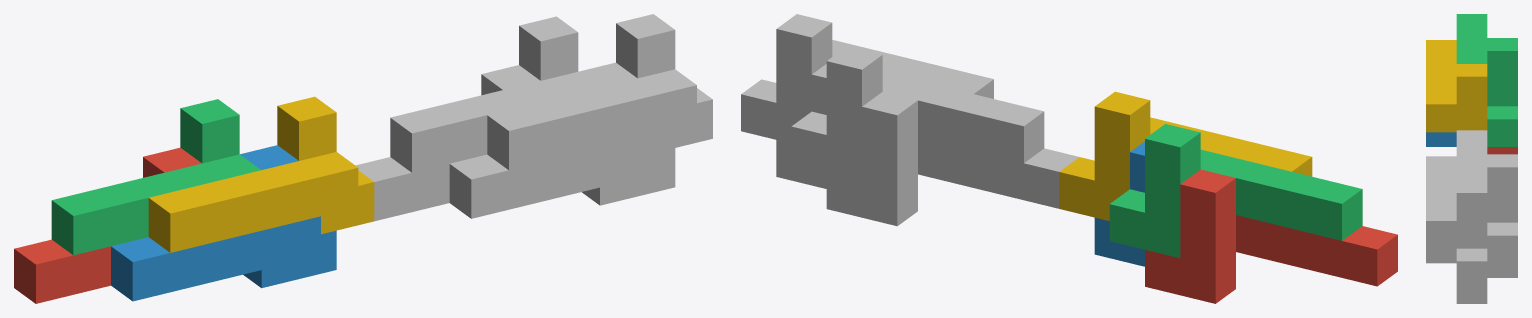
Rendered from tiling.obj.
The picture shows the model from 3 angles, left to right: view 1: azimuth 30°, elevation 25°; view 2: azimuth 150°, elevation 25°; view 3: azimuth 270°, elevation 25°; orthographic projection. The views are drawn at different scales.
Visible parts, largest first — view 1: copy_1_domain_4, copy_1_domain_8, copy_1_domain_6, copy_1_domain_2, copy_1_domain_3, copy_1_domain_7, copy_1_domain_1, copy_1_domain_5; view 2: copy_1_domain_3, copy_1_domain_7, copy_1_domain_1, copy_1_domain_5, copy_1_domain_4, copy_1_domain_8, copy_1_domain_6, copy_1_domain_2; view 3: copy_1_domain_8, copy_1_domain_7, copy_1_domain_4, copy_1_domain_3, copy_1_domain_6, copy_1_domain_2, copy_1_domain_5, copy_1_domain_1.
Boxes of the visible parts, x1=… form: copy_1_domain_4: x1=148, y1=96, x2=374, y2=252; copy_1_domain_8: x1=487, y1=14, x2=712, y2=170; copy_1_domain_6: x1=449, y1=62, x2=675, y2=218; copy_1_domain_2: x1=111, y1=145, x2=336, y2=301; copy_1_domain_3: x1=51, y1=99, x2=260, y2=255; copy_1_domain_7: x1=390, y1=16, x2=599, y2=172; copy_1_domain_1: x1=14, y1=147, x2=201, y2=303; copy_1_domain_5: x1=355, y1=65, x2=540, y2=221; copy_1_domain_3: x1=1109, y1=124, x2=1362, y2=258; copy_1_domain_7: x1=791, y1=46, x2=1044, y2=180; copy_1_domain_1: x1=1145, y1=169, x2=1397, y2=303; copy_1_domain_5: x1=826, y1=92, x2=1078, y2=226; copy_1_domain_4: x1=1059, y1=91, x2=1312, y2=220; copy_1_domain_8: x1=741, y1=14, x2=993, y2=143; copy_1_domain_6: x1=776, y1=64, x2=826, y2=188; copy_1_domain_2: x1=1094, y1=141, x2=1144, y2=266; copy_1_domain_8: x1=1426, y1=156, x2=1487, y2=289; copy_1_domain_7: x1=1456, y1=130, x2=1517, y2=263; copy_1_domain_4: x1=1426, y1=40, x2=1487, y2=132; copy_1_domain_3: x1=1456, y1=14, x2=1517, y2=146; copy_1_domain_6: x1=1426, y1=248, x2=1487, y2=303; copy_1_domain_2: x1=1426, y1=132, x2=1456, y2=146; copy_1_domain_5: x1=1487, y1=263, x2=1517, y2=277; copy_1_domain_1: x1=1487, y1=147, x2=1517, y2=154.
Size of the model in its own units: 18 by 4 by 3.
